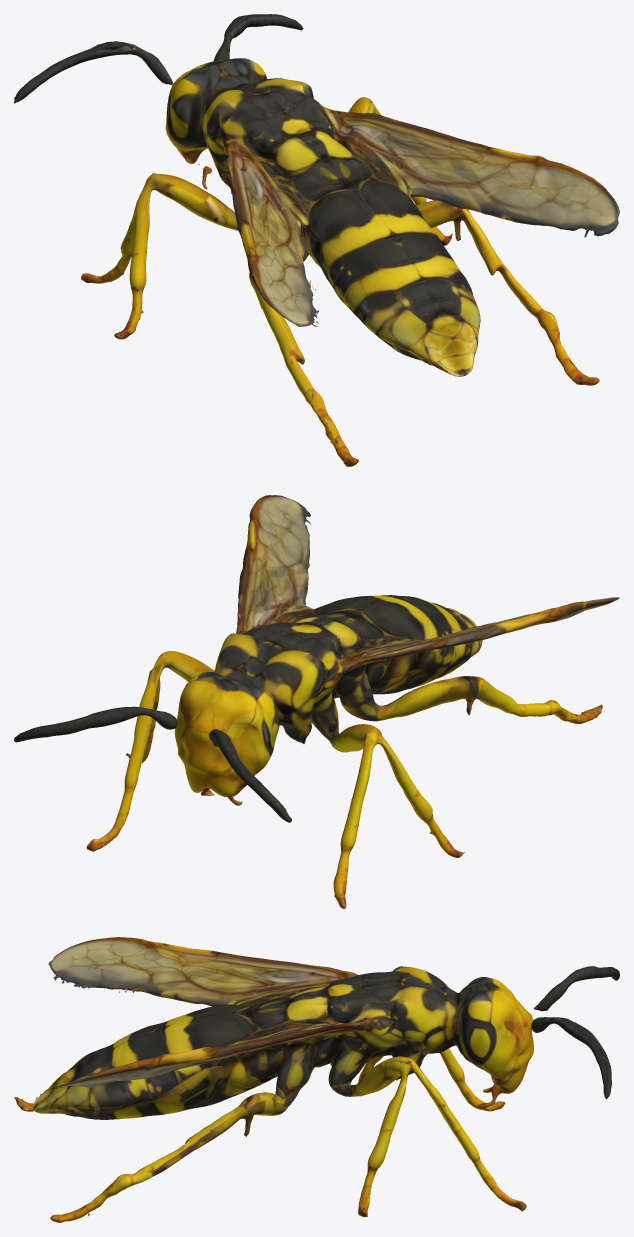
File: wasp.glb
The picture shows the model from 3 angles, top to bottom: view 1: azimuth 30°, elevation 25°; view 2: azimuth 150°, elevation 25°; view 3: azimuth 270°, elevation 25°; orthographic projection. The views are drawn at different scales.
Bounding box in the file's own units: 1.22 × 0.6697 × 1.98.
1 material, 1 textured.
